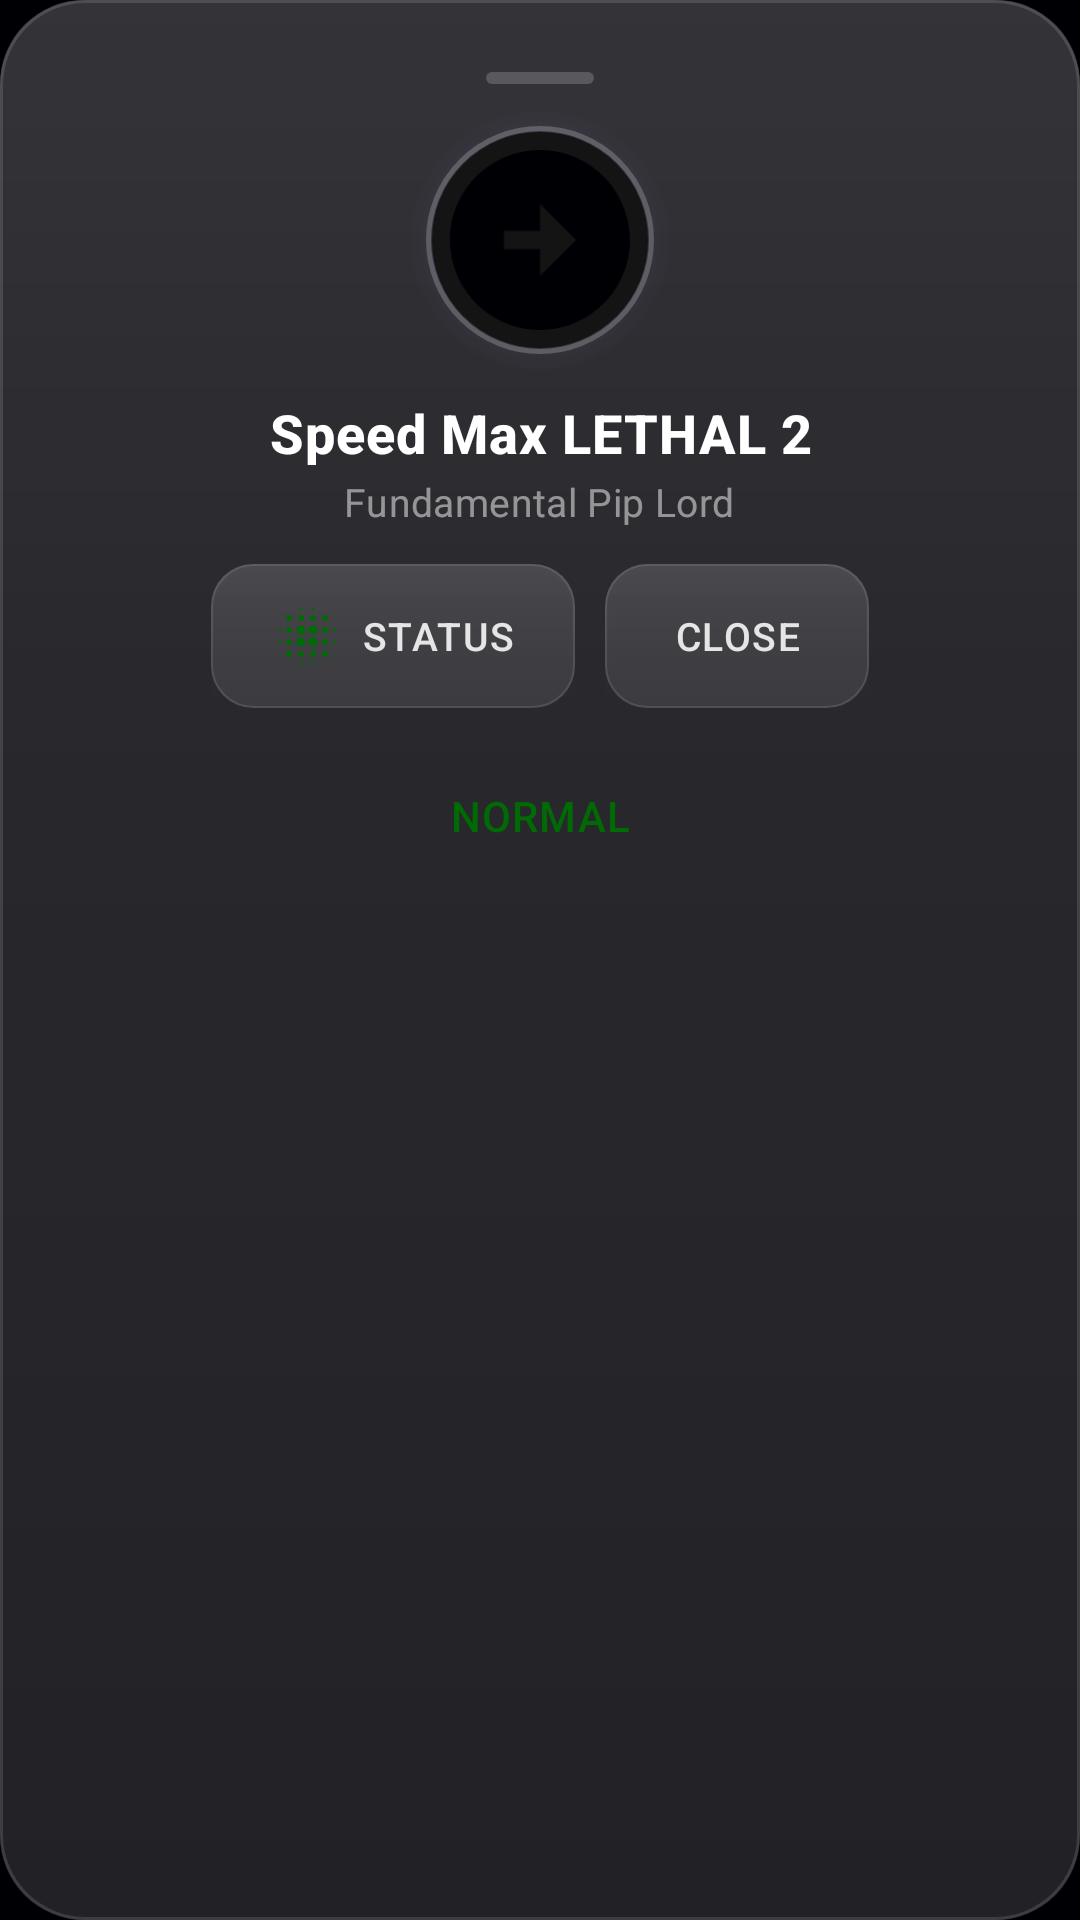

Named icons in this screenshot (1080 × 1920) and their centers, [x,y]:
arrow circle right: [540,240]
